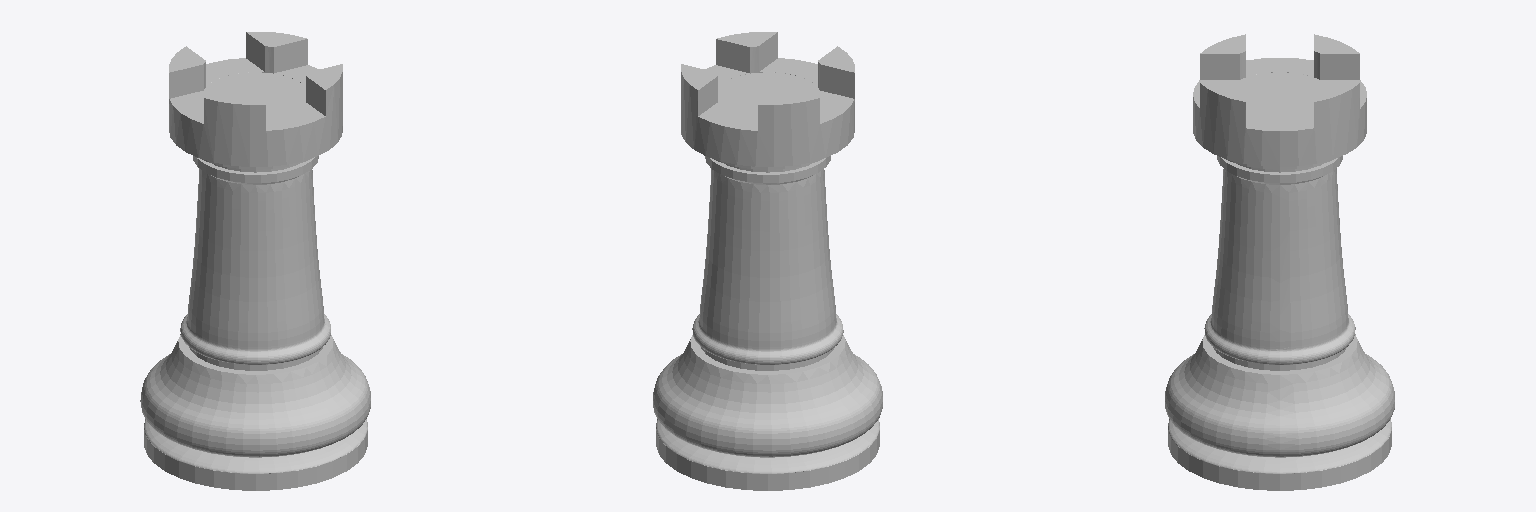
The model's file is rook_black.obj.
3 renders of one model, left to right at view 1: azimuth 30°, elevation 25°; view 2: azimuth 150°, elevation 25°; view 3: azimuth 270°, elevation 25°, orthographic.
Parts seen in each view (by area): view 1: Body7; view 2: Body7; view 3: Body7.
Part boxes in pixels (left/top/right/bottom): Body7: left=140, top=32, right=370, bottom=490; Body7: left=653, top=32, right=882, bottom=490; Body7: left=1165, top=34, right=1394, bottom=490.
Bounding box in the file's own units: 3.71 × 6.65 × 3.7.